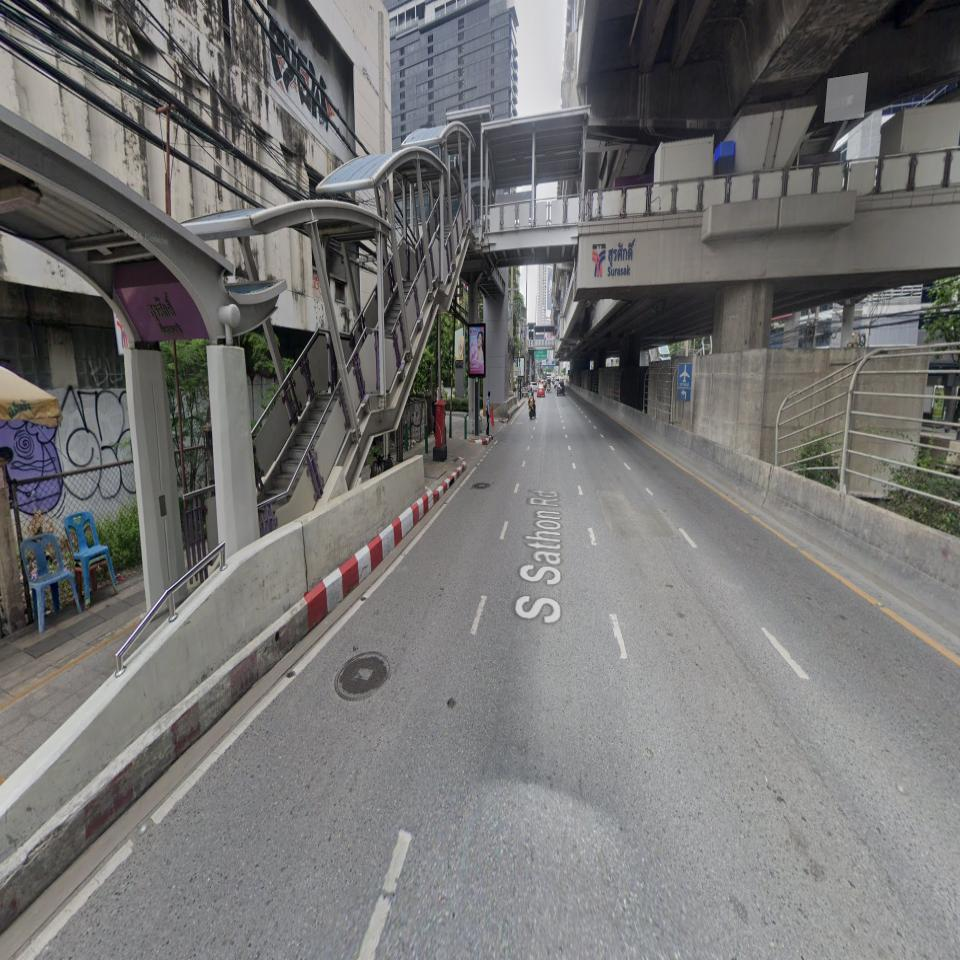Surasak: (114, 280, 209, 356), (114, 280, 208, 341), (592, 237, 636, 277), (607, 238, 636, 277)
